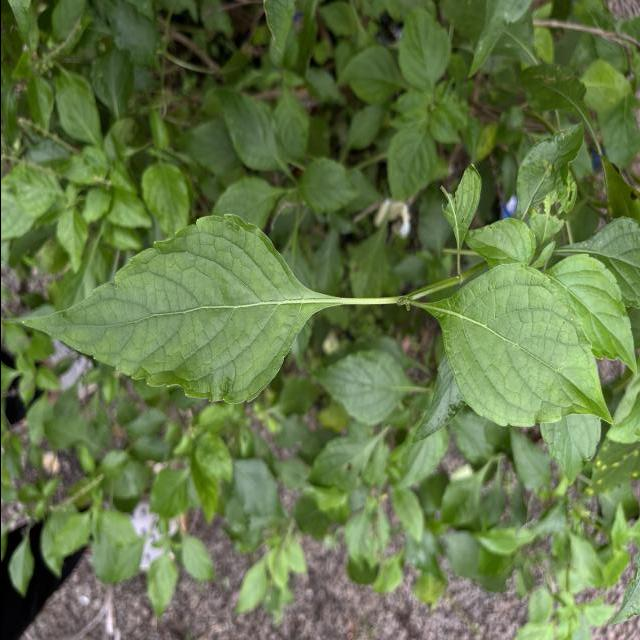Ocimum gratissimum: (14, 210, 346, 408), (418, 259, 618, 433)
